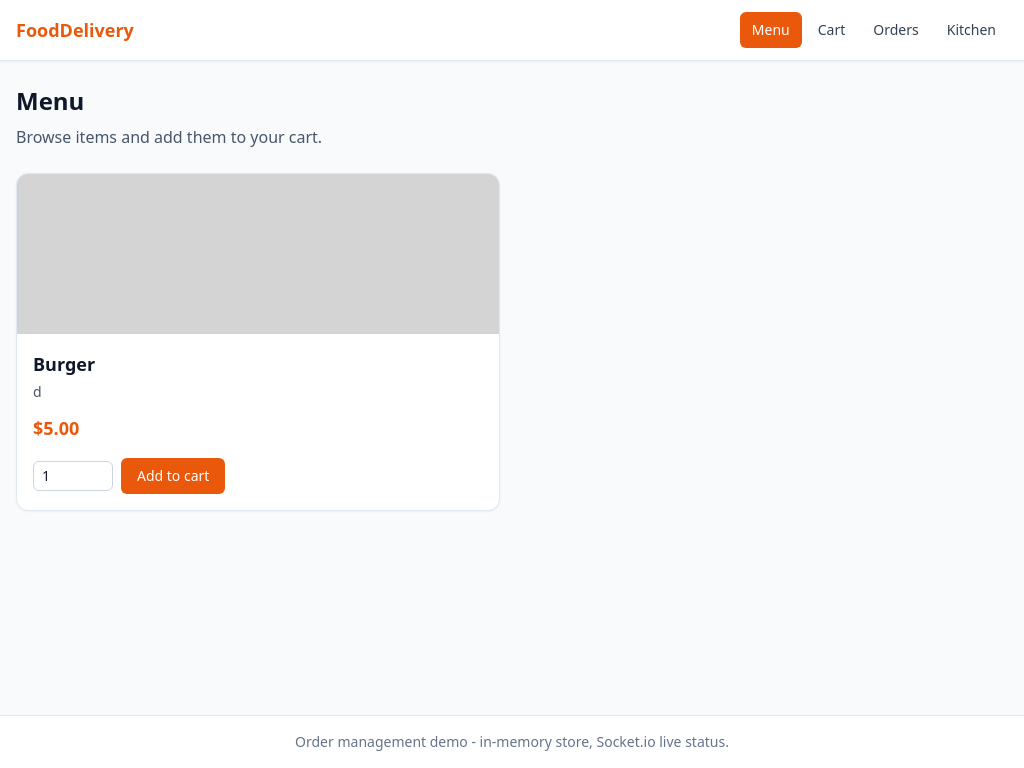
Test: CartPage › qty change updates subtotal and remove clears
Click the button "Add to cart" at (173, 476), box [121,458,225,494]
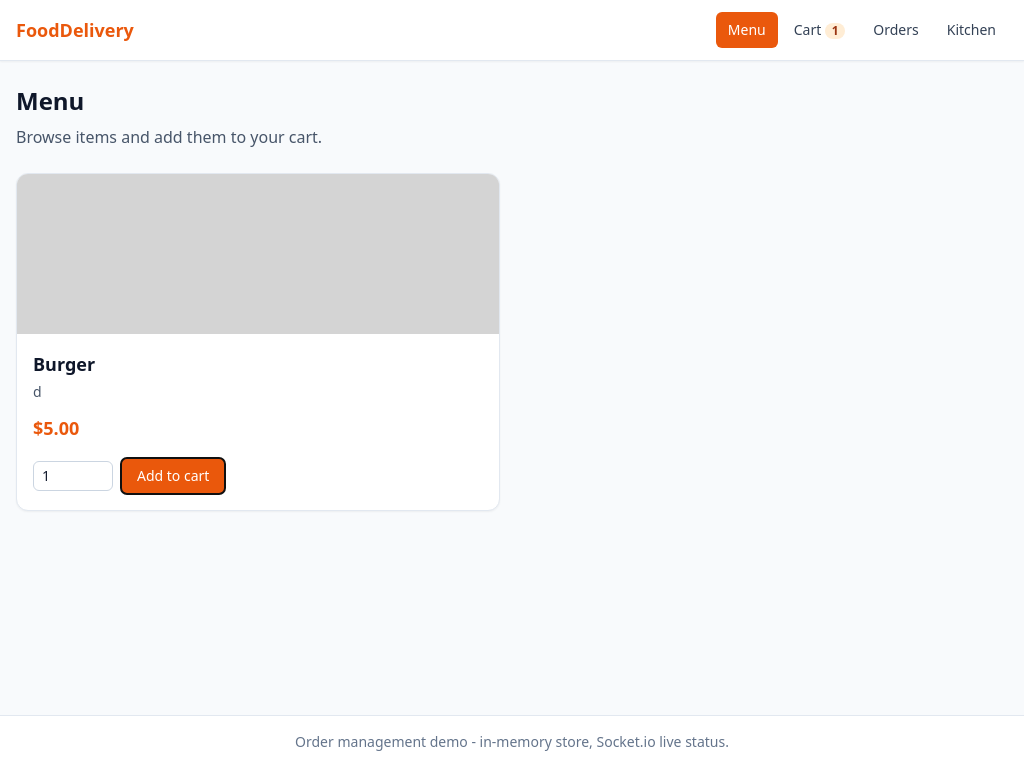
Click the link "Cart 1" at (820, 30), box [794,20,845,39]
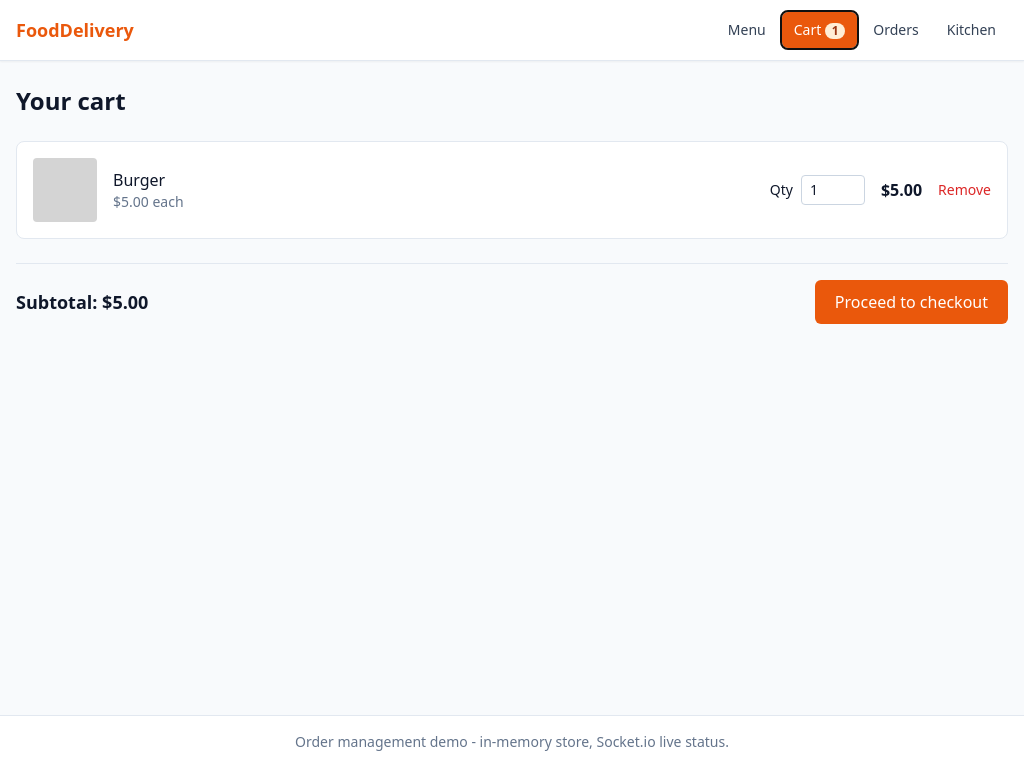
Replace the text in the number field showing "1" with "3" at (833, 190), box [801,175,865,205]
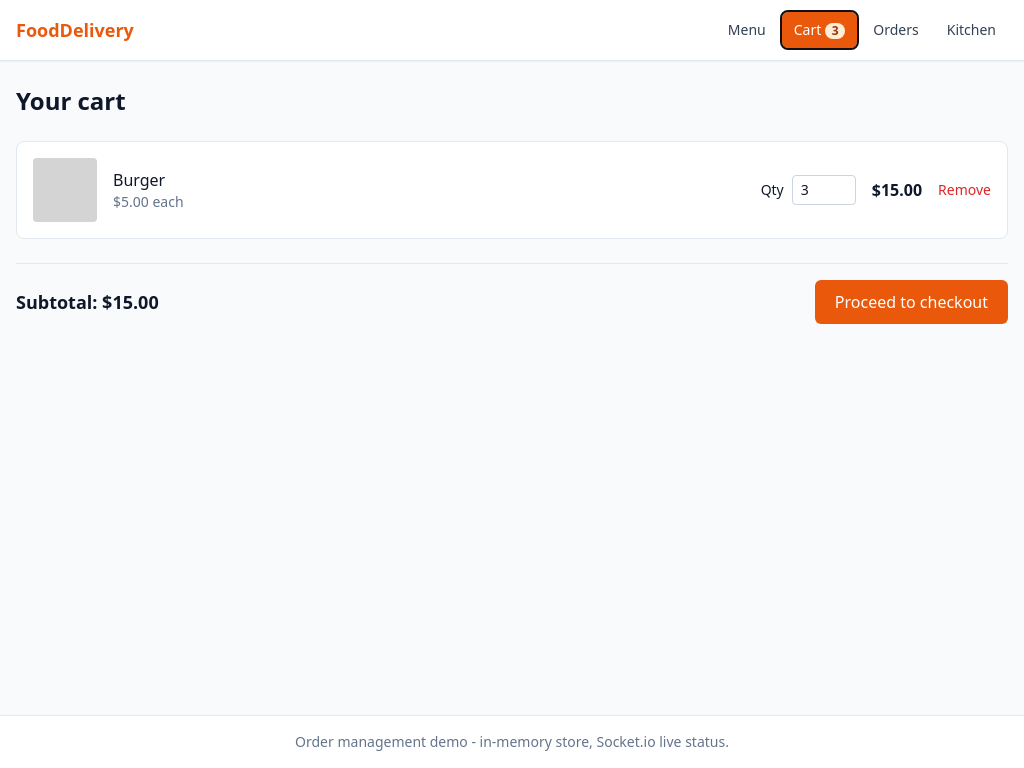
Expected: the text with test id "cart-subtotal" reads "Subtotal: $15.00", [16,288,159,316]
Click the button "Remove" at (965, 190), box [938,180,991,200]
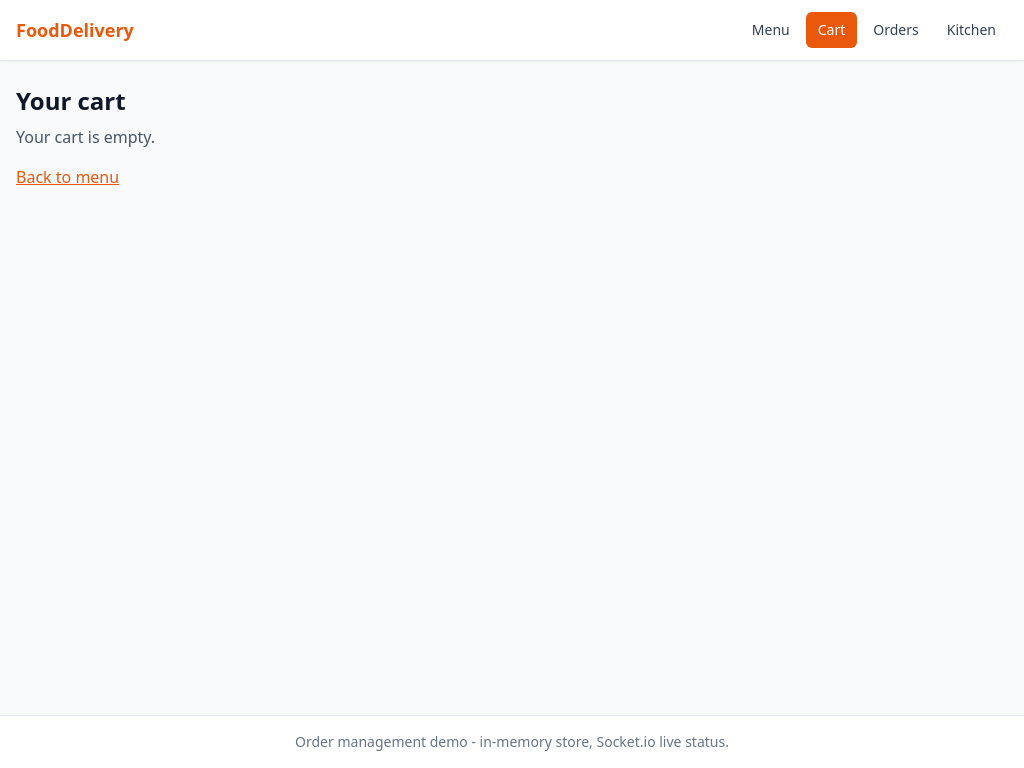
Expected: the text "Your cart is empty." is shown, [16,126,155,148]
